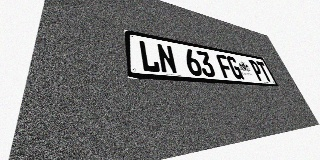3: (196, 50, 216, 77)
6: (183, 48, 204, 76)
F: (215, 54, 235, 79)
G: (226, 56, 244, 80)
L: (138, 40, 161, 73)
N: (156, 43, 178, 74)
P: (248, 60, 266, 81)
T: (256, 61, 273, 82)
